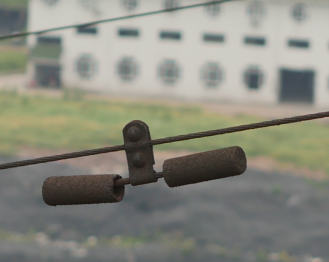damper: (36, 116, 251, 210)
